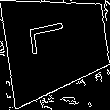L_E: (34, 25, 79, 64)
